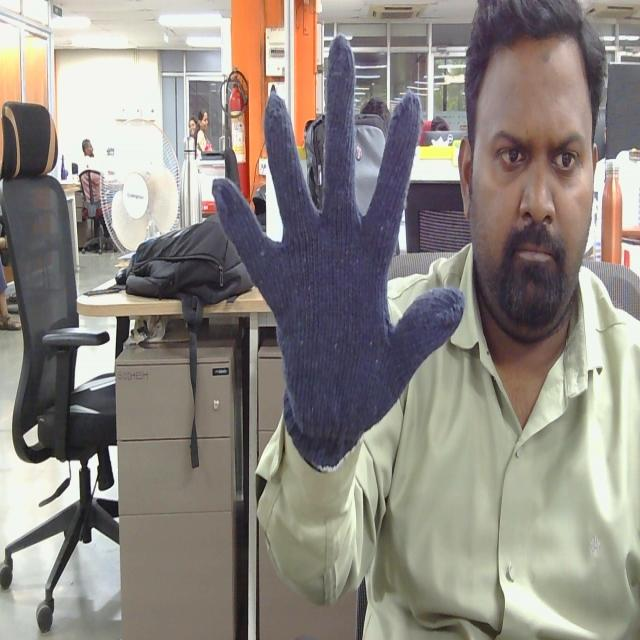Gloves-Detection: (212, 36, 465, 467)
